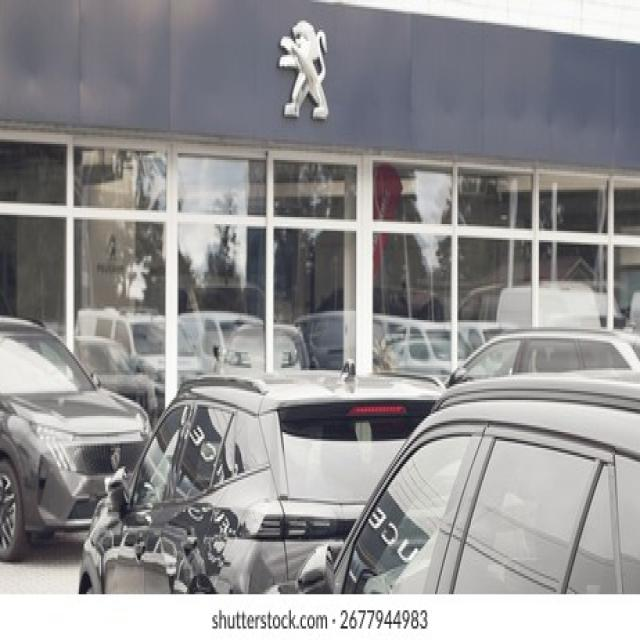pegout: (276, 16, 336, 125)
